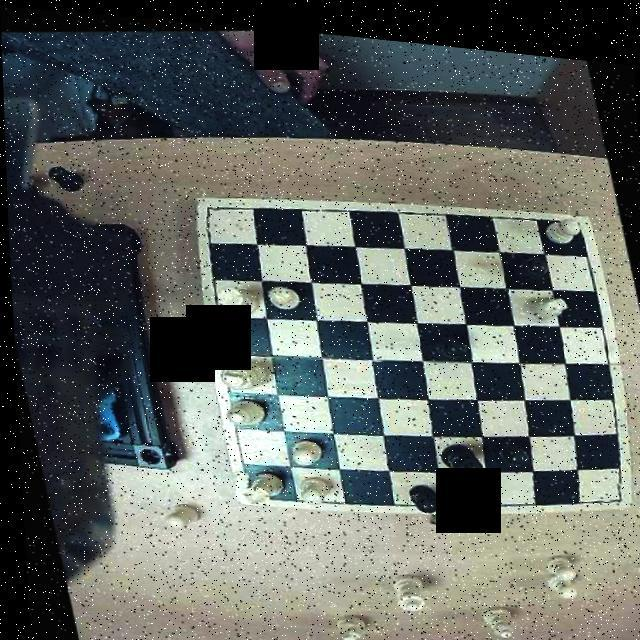chess-table-corners: (184, 193, 222, 231), (221, 462, 258, 500), (554, 199, 588, 233), (594, 467, 624, 496)
